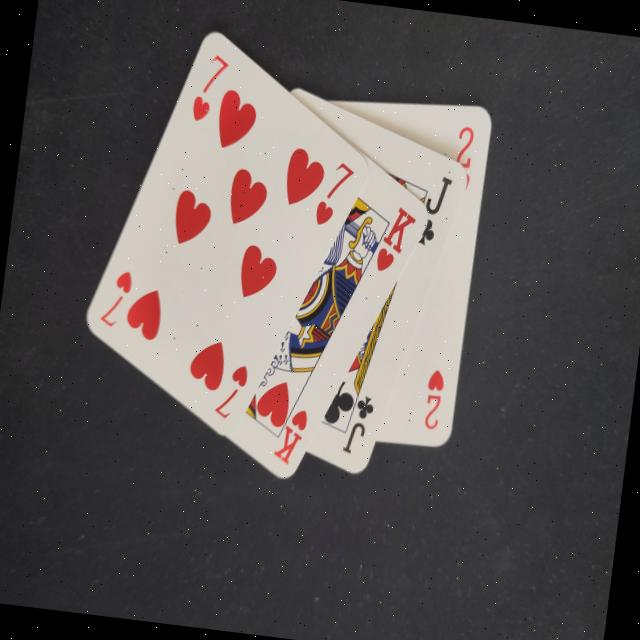2h: (416, 364, 450, 439)
7h: (305, 154, 357, 233), (182, 48, 232, 129), (91, 264, 139, 336), (206, 360, 252, 428)
Jc: (405, 171, 454, 251), (338, 388, 378, 461)
Kh: (365, 204, 418, 280), (264, 401, 312, 468)
